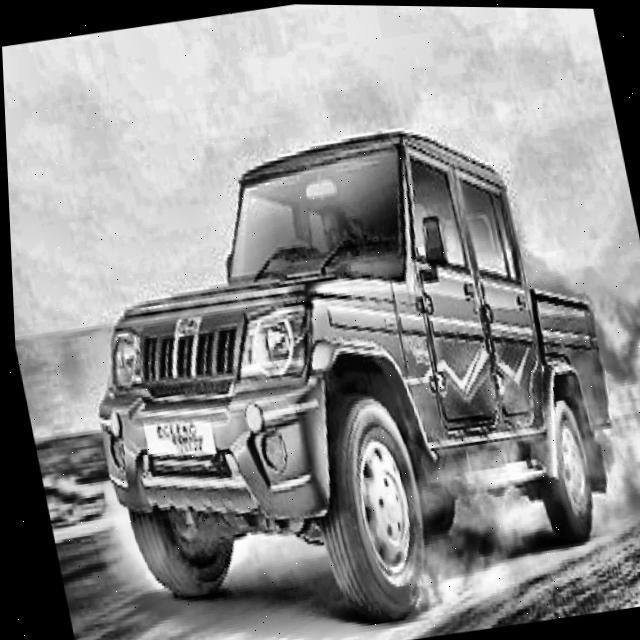light_vehicle: (44, 89, 640, 640)
